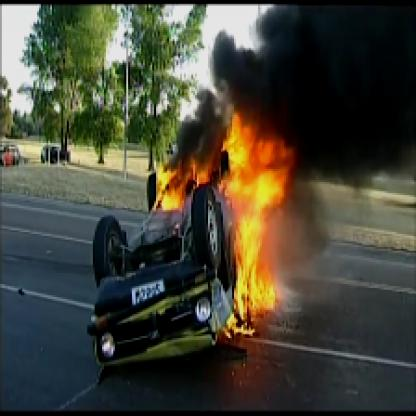Fire: (149, 104, 308, 340)
